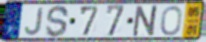7: (79, 5, 101, 37), (106, 4, 126, 38)
J: (23, 7, 44, 37)
N: (131, 4, 161, 38)
O: (159, 5, 184, 37)
S: (44, 4, 70, 39)
